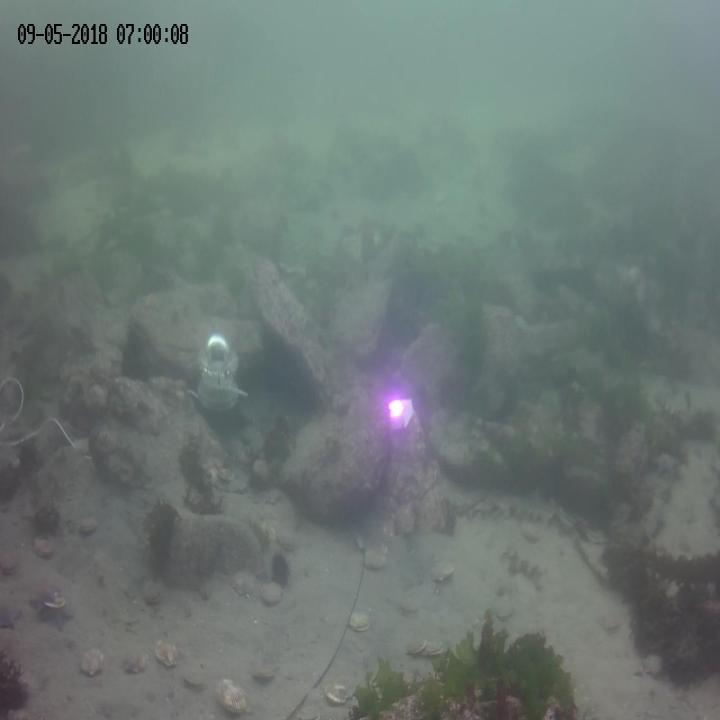scallop: (215, 676, 248, 714), (154, 636, 178, 668), (323, 679, 351, 705), (144, 573, 165, 607), (125, 647, 150, 675), (0, 542, 20, 576), (259, 513, 282, 542), (251, 658, 276, 684), (80, 650, 103, 676), (405, 632, 427, 657), (261, 578, 282, 604), (600, 607, 622, 631), (348, 609, 370, 633), (278, 522, 296, 550), (33, 534, 54, 558), (492, 599, 514, 620), (424, 637, 447, 657), (184, 664, 204, 686), (76, 514, 98, 534), (432, 562, 452, 583), (216, 464, 235, 484), (46, 594, 67, 606)
starfish: (29, 584, 57, 613), (47, 607, 72, 633)
